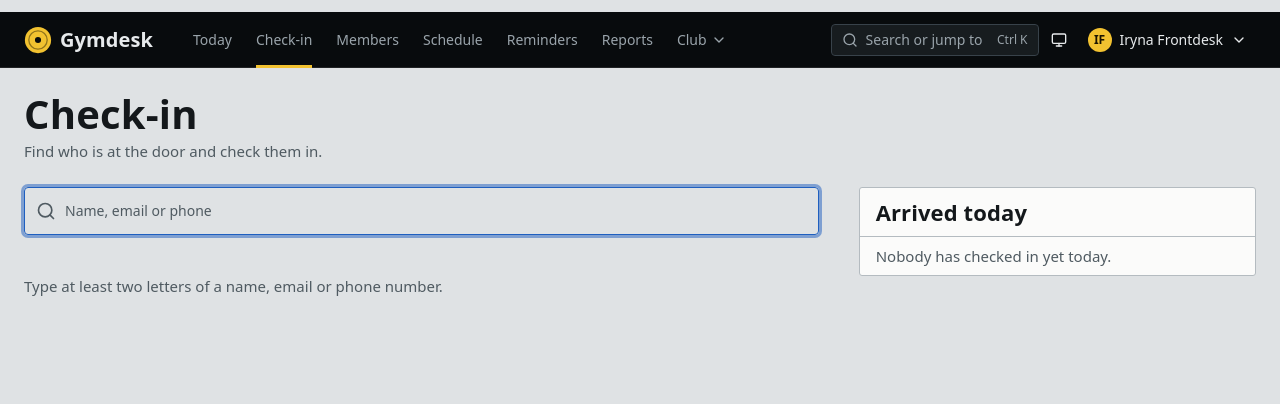
finding members › offers the check-in to a member with an active subscription
This screenshot has width=1280, height=404.
Expected: the heading "Check-in" is shown, [24,86,198,141]
Type "olena" into the search field named "Find a member" at (421, 210), box [24,186,819,234]
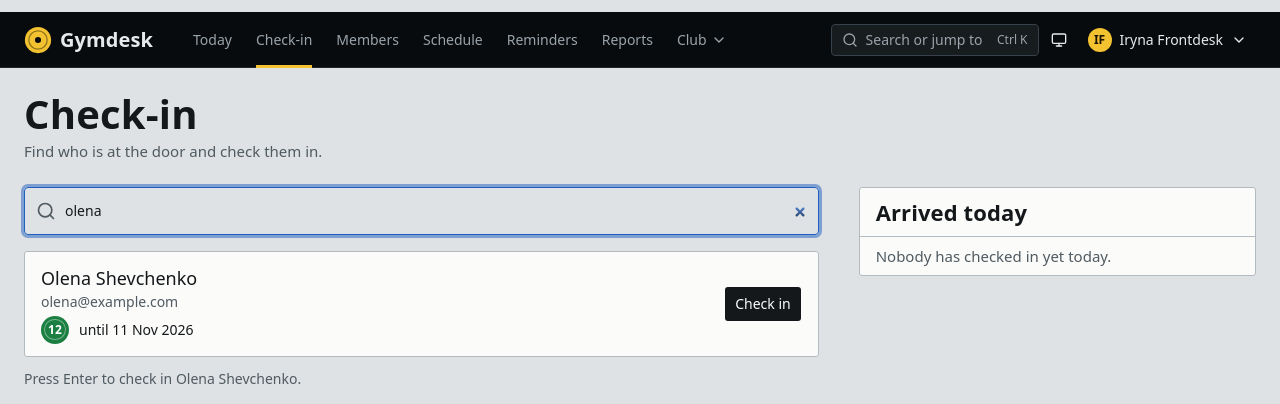
Result: the button with aria-label "Check in Olena Shevchenko" is shown at [724,286,802,322]
Result: the picture named "12 days left" is shown at [41,316,69,344]
Result: the text "Press Enter to check in Olena Shevchenko." is shown at [24,368,301,388]
